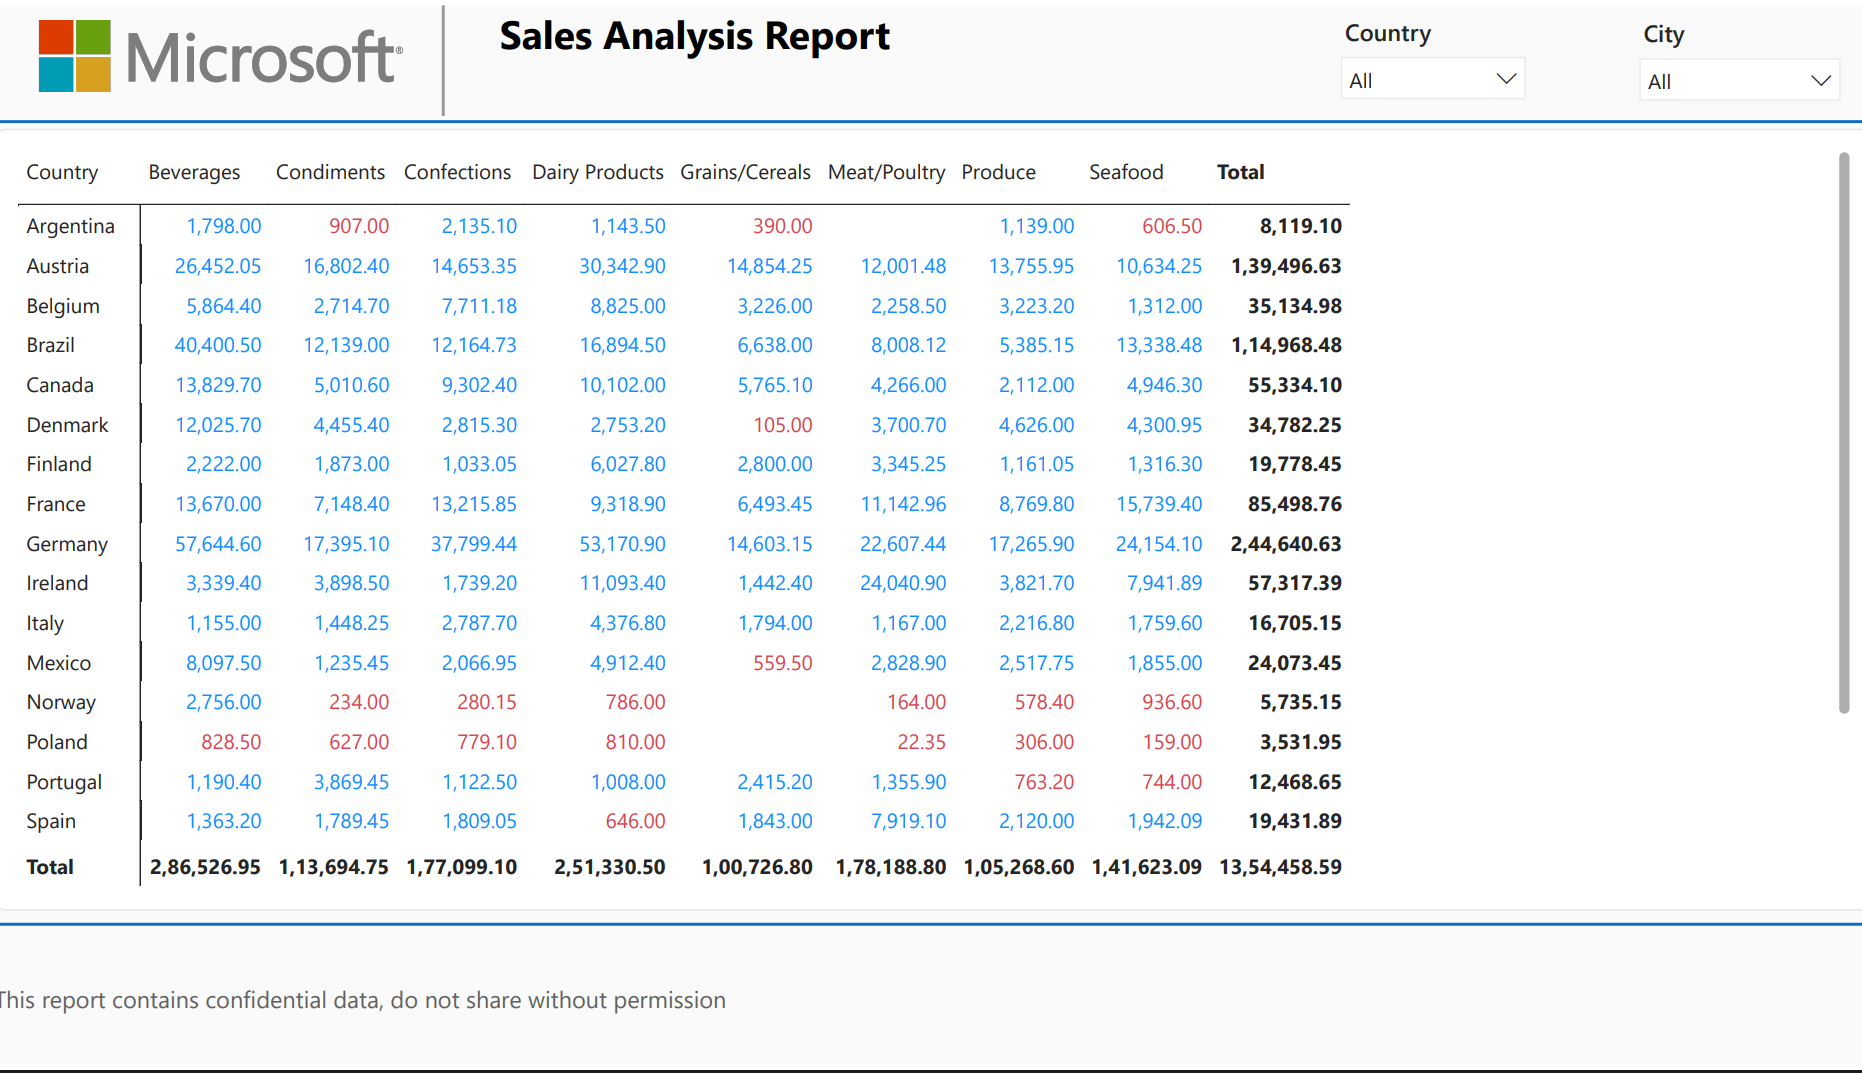

Layout of this report page (visuals, bound fields, positions):
{"tool":"powerbi","page":{"name":"Details","canvas":[1280,720],"ordinal":1},"visuals":[{"type":"shape","box":[0,75.5,1280.3,8.2],"z":1000},{"type":"shape","box":[0,617.5,1280.3,16.5],"z":2000},{"type":"image","box":[24.7,1.4,259.3,67.2],"z":3000},{"type":"textbox","box":[344.4,1.4,469.3,41.2],"z":4000},{"type":"textbox","box":[0,664.8,596.9,24.7],"z":5000},{"type":"shape","box":[297.8,0,15.1,75.5],"z":6000},{"type":"slicer","fields":{"Values":["Customers.Country"]},"box":[911.2,6.9,135.8,68.6],"z":7000},{"type":"slicer","fields":{"Values":["Customers.City"]},"box":[1114.2,8.2,146.8,68.6],"z":8000},{"type":"pivotTable","fields":{"Columns":["Categories.CategoryName"],"Rows":["Customers.Country"],"Values":["Order_Details.Total Sales"]},"box":[0,84.5,1280,532],"z":8002}]}

Visuals, with their boxes in screenshot pixels (x1, y1, x2, y2), scaled from the page's 1280x720 canvas onto the 1862x1073 screenshot:
shape: <region>0, 113, 1861, 125</region>
shape: <region>0, 920, 1861, 945</region>
image: <region>36, 2, 413, 102</region>
textbox: <region>501, 2, 1184, 63</region>
textbox: <region>0, 991, 868, 1028</region>
shape: <region>433, 0, 455, 113</region>
slicer - Customers.Country: <region>1326, 10, 1523, 113</region>
slicer - Customers.City: <region>1621, 12, 1834, 114</region>
pivotTable - Categories.CategoryName x Customers.Country: <region>0, 126, 1861, 919</region>
